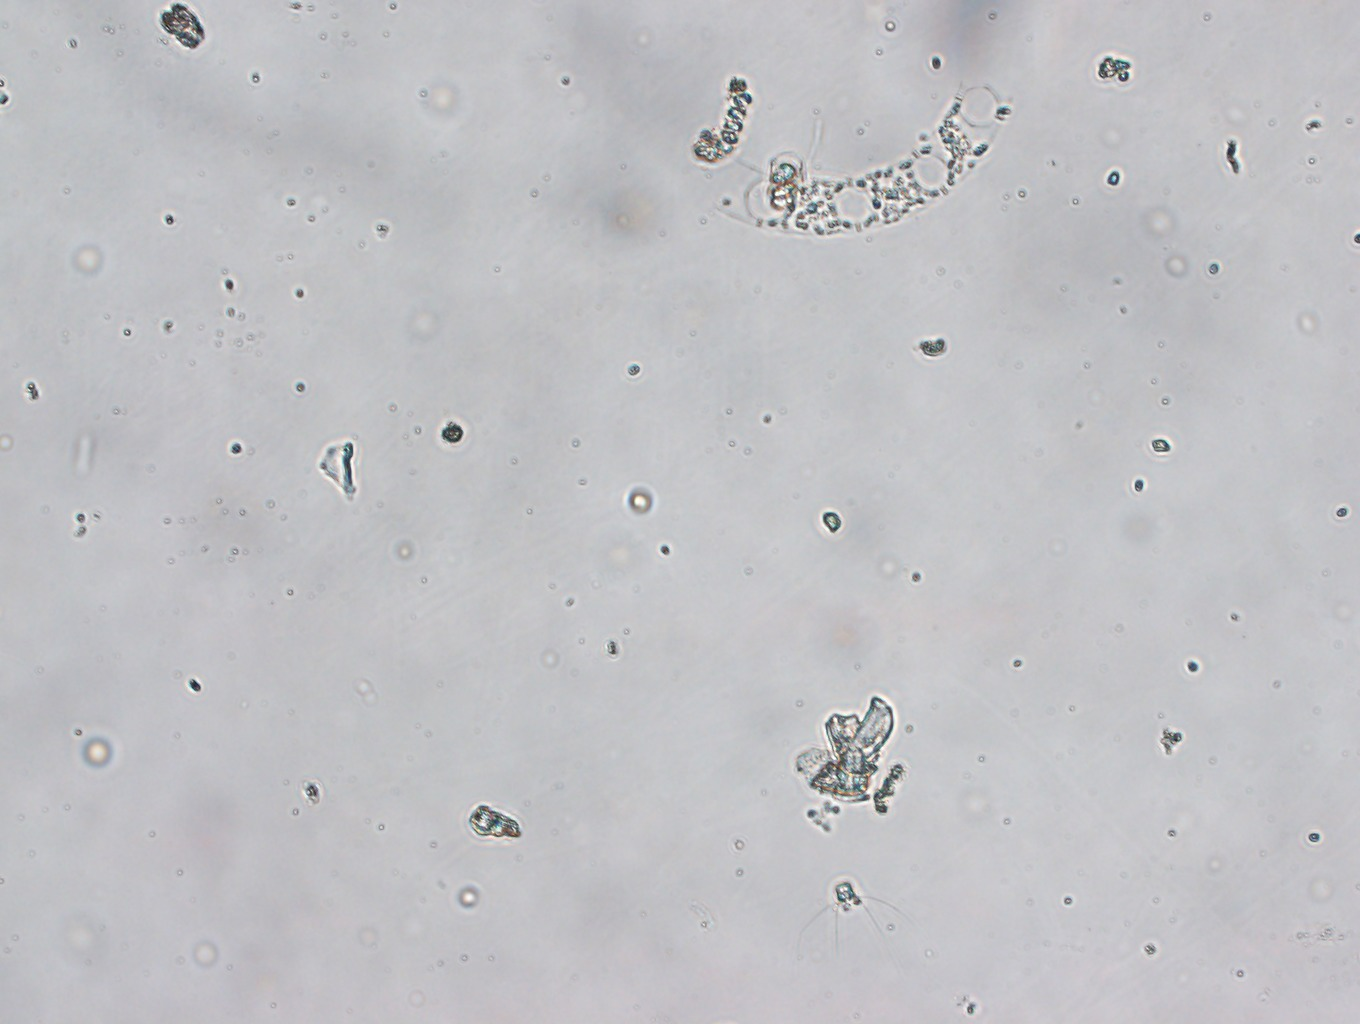eucampia: (713, 65, 1039, 247)
